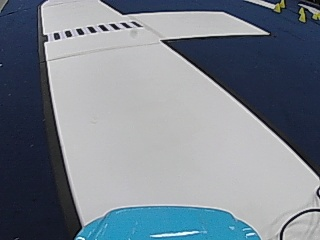CrossWalk: (47, 19, 140, 40)
